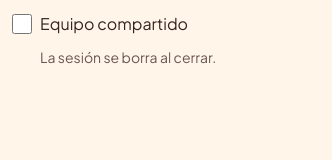
Test: CheckboxField › etiqueta y ayuda asociadas; se marca con la etiqueta y con el teclado
Expected: the checkbox labelled "Equipo compartido" is not checked, [12, 14, 32, 34]
Click the text "Equipo compartido" at [114, 24], box [40, 14, 188, 34]
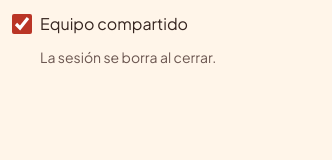
Expected: the checkbox labelled "Equipo compartido" is checked, [12, 14, 32, 34]
